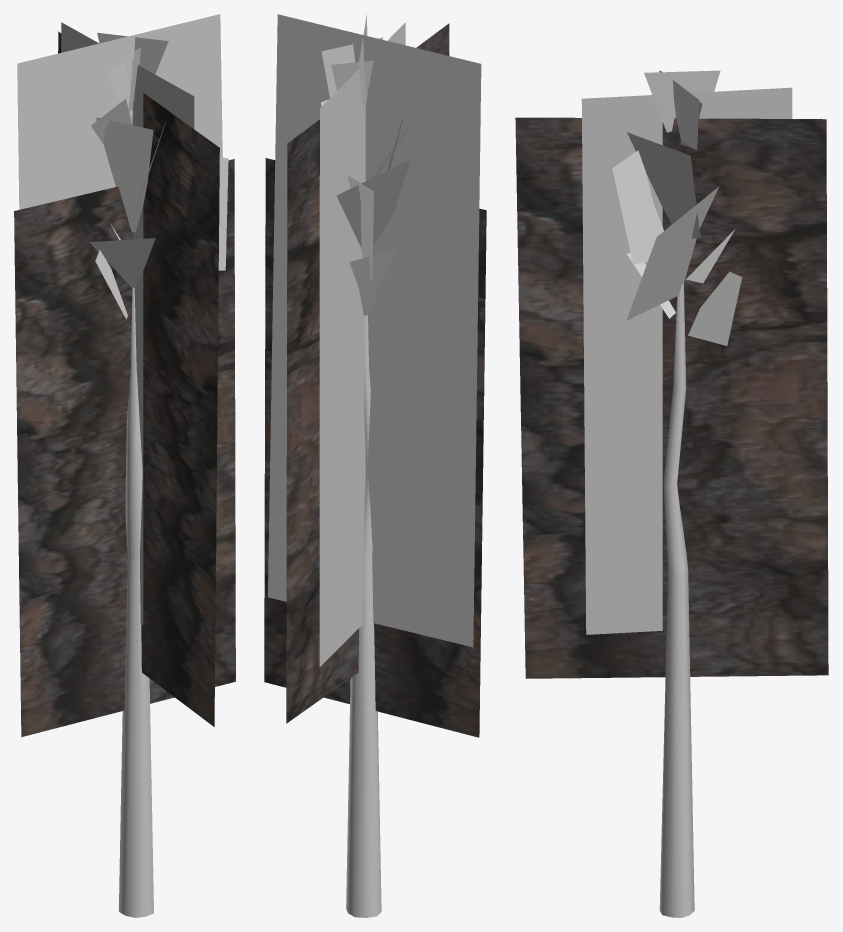
Rendered from pine_tree_mesh_5.fbx.
3 renders of one model, left to right at view 1: azimuth 30°, elevation 25°; view 2: azimuth 150°, elevation 25°; view 3: azimuth 270°, elevation 25°, orthographic. The views are drawn at different scales.
Parts seen in each view (by area): view 1: Cylinder.001; view 2: Cylinder.001; view 3: Cylinder.001.
Part boxes in pixels (x1,y1,x2,y2): Cylinder.001: [14, 14, 235, 917]; Cylinder.001: [264, 14, 486, 917]; Cylinder.001: [515, 70, 828, 917].
Size of the model in its own units: 496 by 1877 by 630.
Materials: 4 (1 with a texture image).
